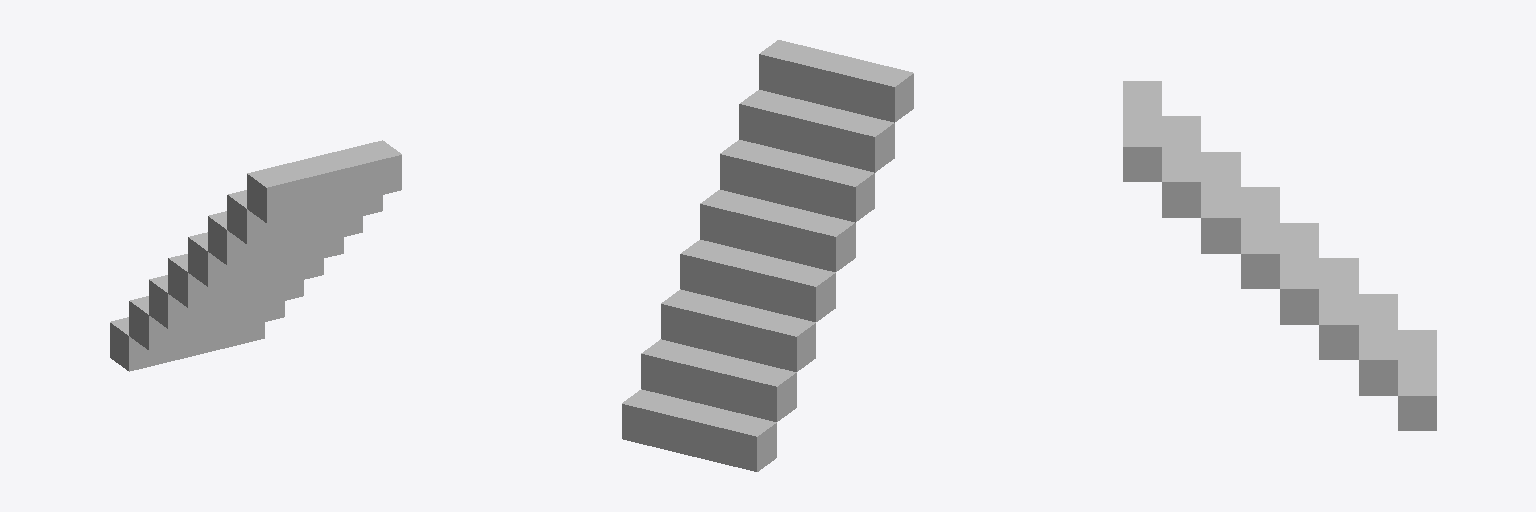
File: stairs-wood.obj
3 views of the same model, side by side, from view 1: azimuth 30°, elevation 25°; view 2: azimuth 150°, elevation 25°; view 3: azimuth 270°, elevation 25° (orthographic).
Visible parts, largest first — view 1: stairs-wood; view 2: stairs-wood; view 3: stairs-wood.
Part boxes in pixels (bbox=[...]): stairs-wood: bbox=[110, 140, 401, 371]; stairs-wood: bbox=[622, 40, 913, 471]; stairs-wood: bbox=[1123, 81, 1436, 430].
Bounding box in the file's own units: 0.5 × 1 × 1.